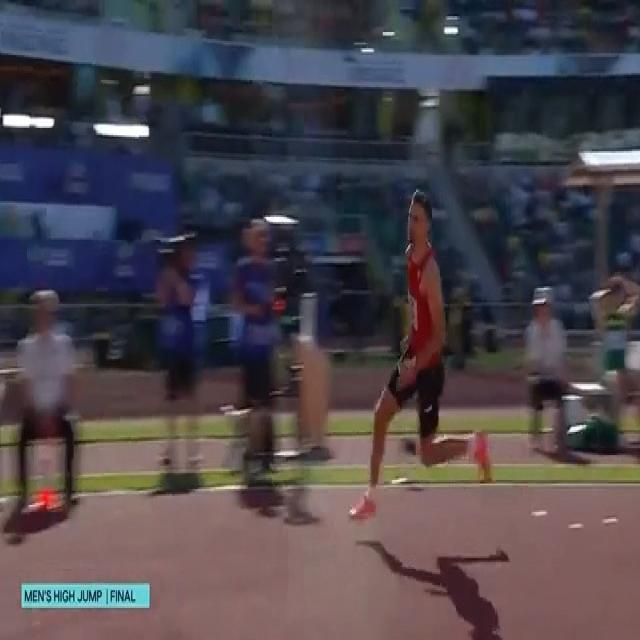run: (349, 189, 492, 525)
